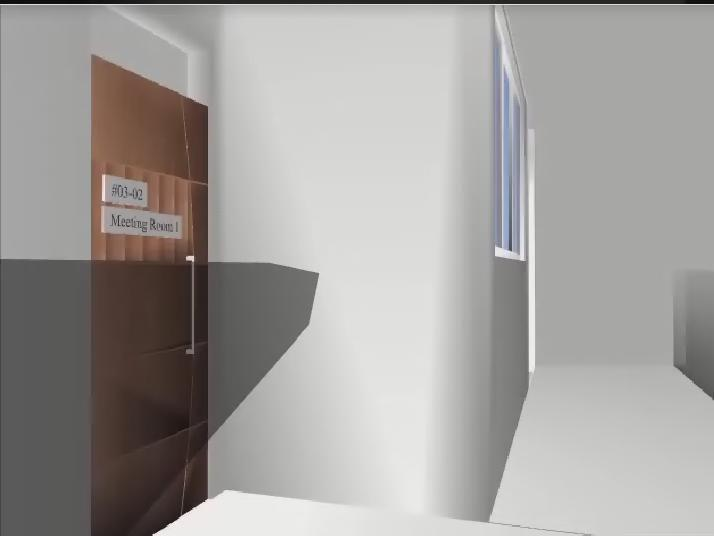door: (91, 55, 208, 536)
